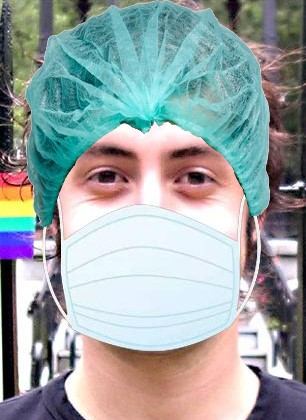with_mask_and_cap: (29, 3, 271, 351)
